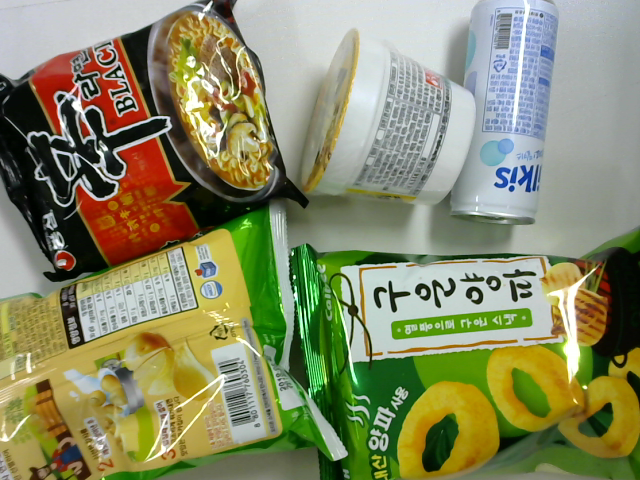Grilled_Onions: (291, 228, 636, 480)
Hejangmini: (299, 28, 475, 212)
Milkies_250ml: (459, 6, 563, 228)
Pocachip_Onion: (3, 220, 331, 480)
Sinramen_Black: (3, 4, 299, 264)
